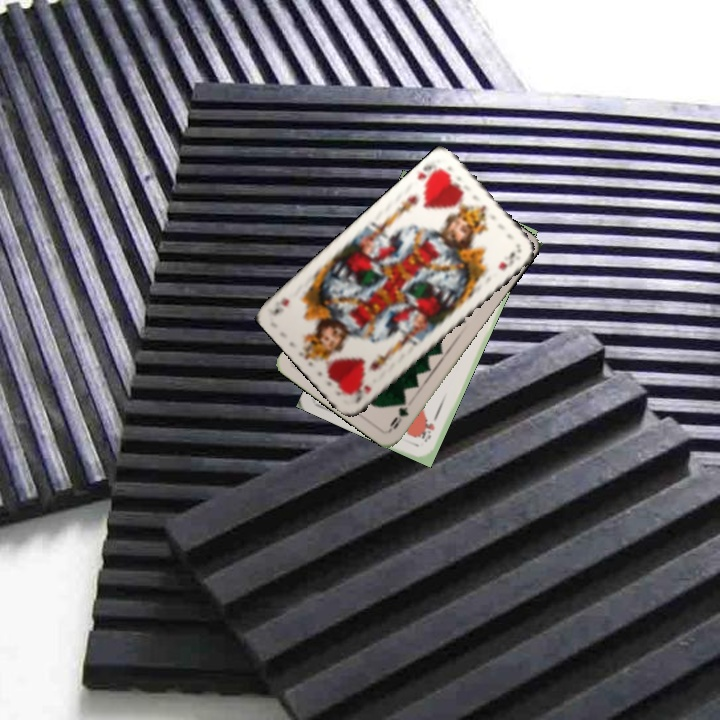G9: (385, 395, 411, 433)
HK: (413, 160, 445, 189), (355, 381, 374, 406)
HO: (418, 408, 441, 445)
